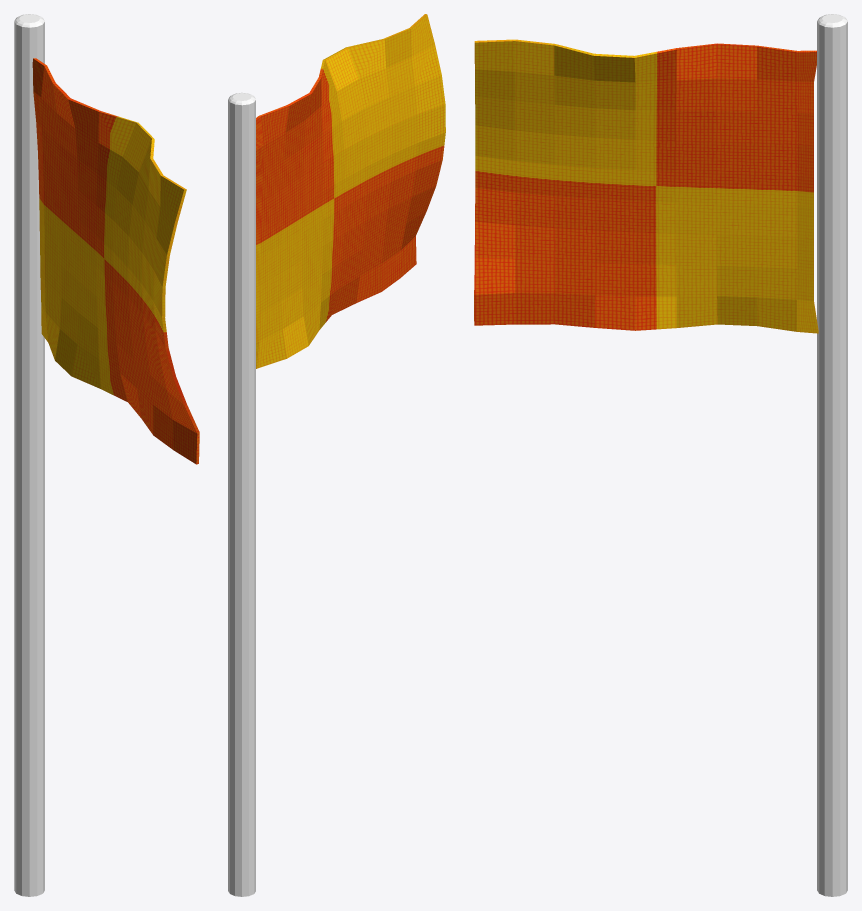
The model's file is Flag.fbx.
3 renders of one model, left to right at view 1: azimuth 30°, elevation 25°; view 2: azimuth 150°, elevation 25°; view 3: azimuth 270°, elevation 25°, orthographic. The views are drawn at different scales.
Visible parts, largest first — view 1: Flag; view 2: Flag; view 3: Flag.
Part boxes in pixels (x1,y1,x2,y2): Flag: (14, 14, 199, 896); Flag: (228, 14, 445, 896); Flag: (474, 14, 847, 896).
Size of the model in its own units: 9.06 by 128 by 49.78.
